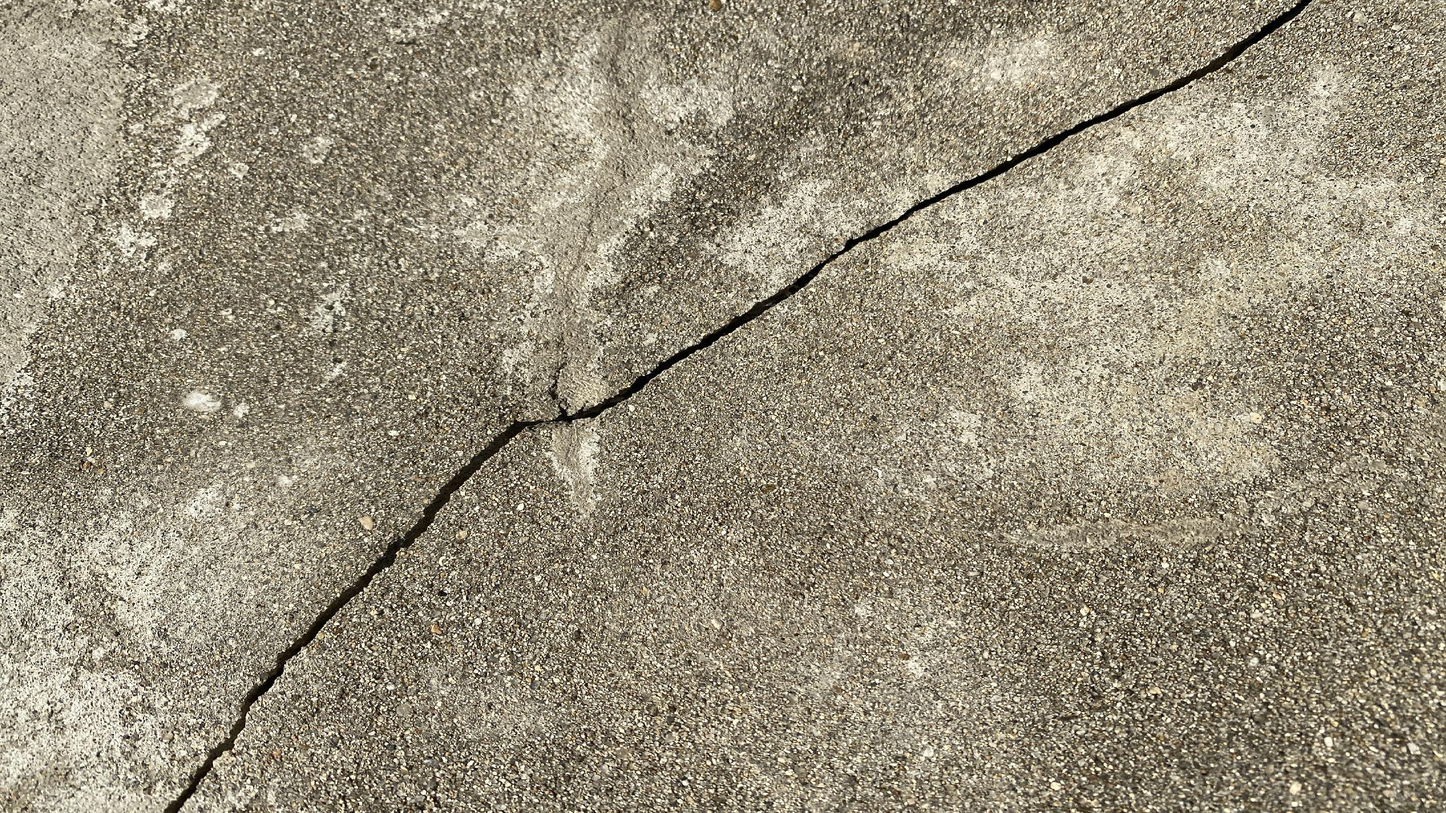crack: (157, 1, 1315, 810)
